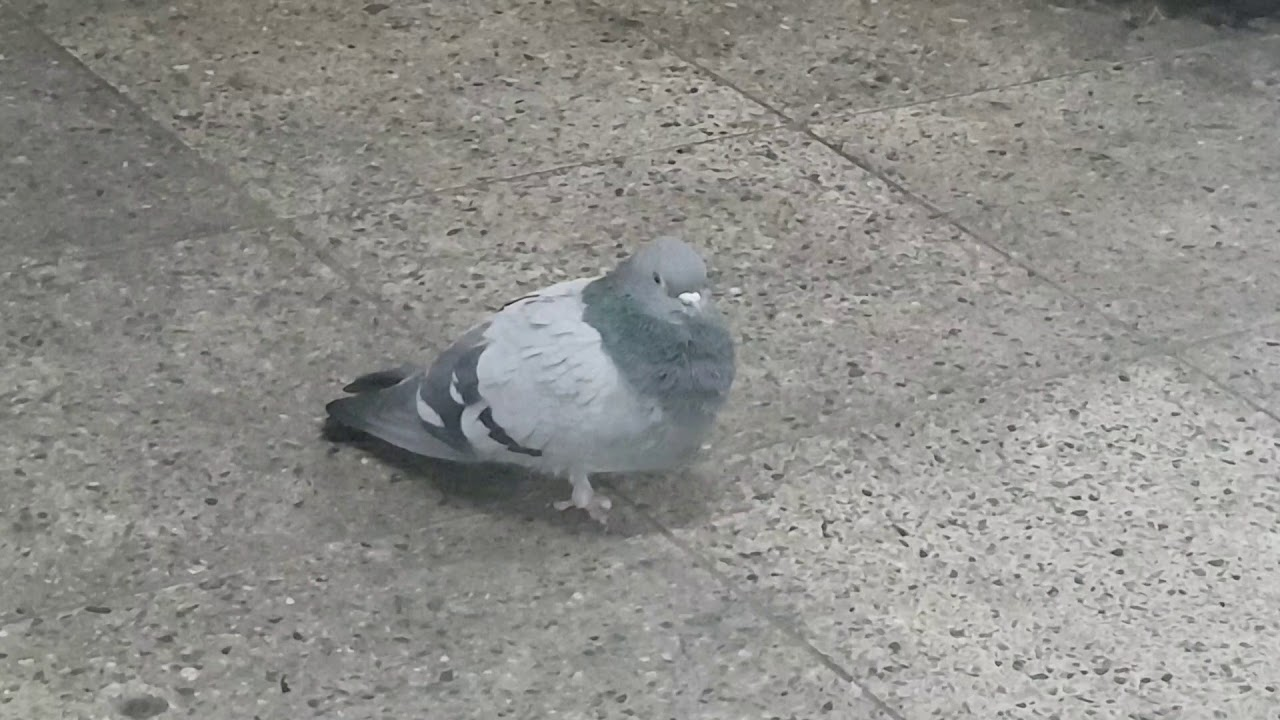pheasant: (315, 228, 739, 534)
